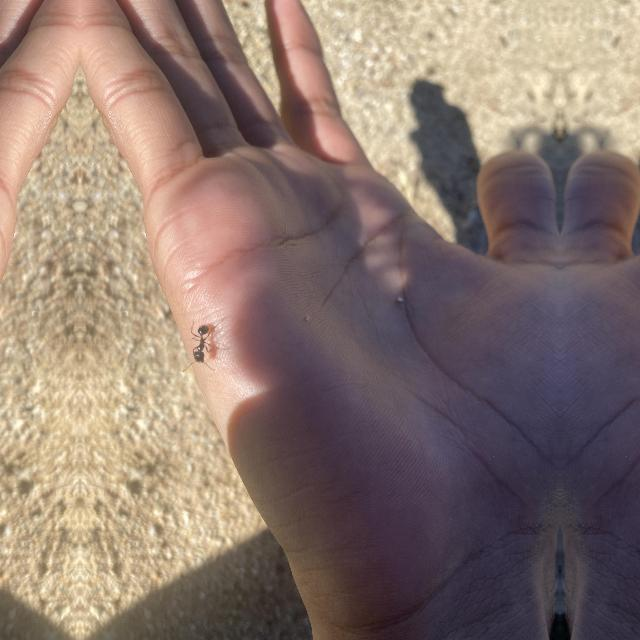Messor: (188, 316, 214, 362)
